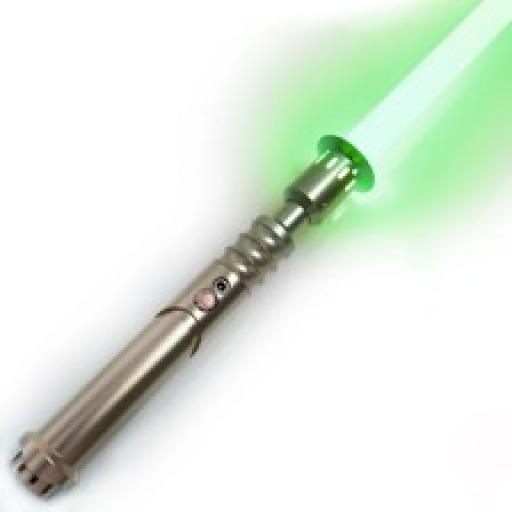lightsaber: (11, 0, 512, 501)
